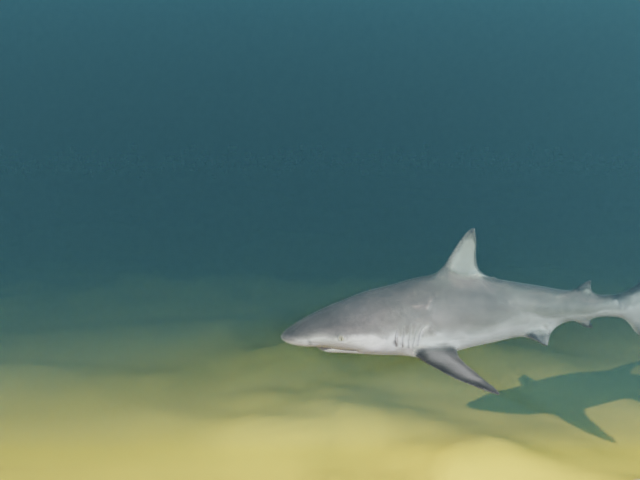Carribean Shark.001: (280, 227, 640, 394)
